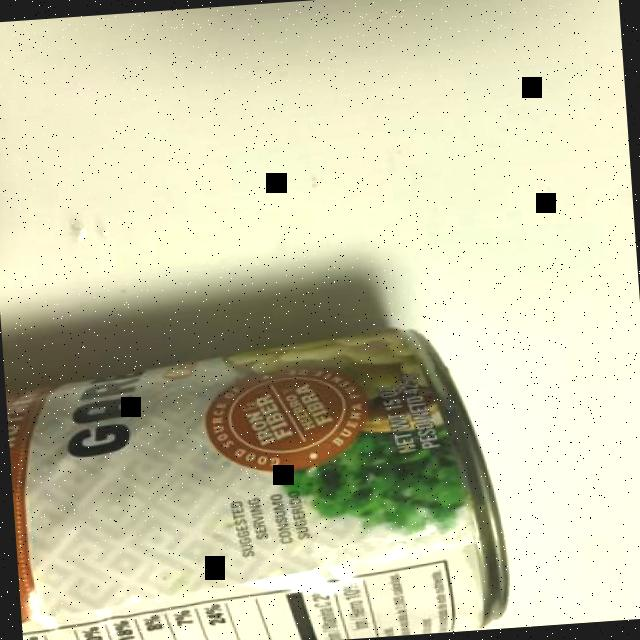can: (1, 318, 513, 640)
